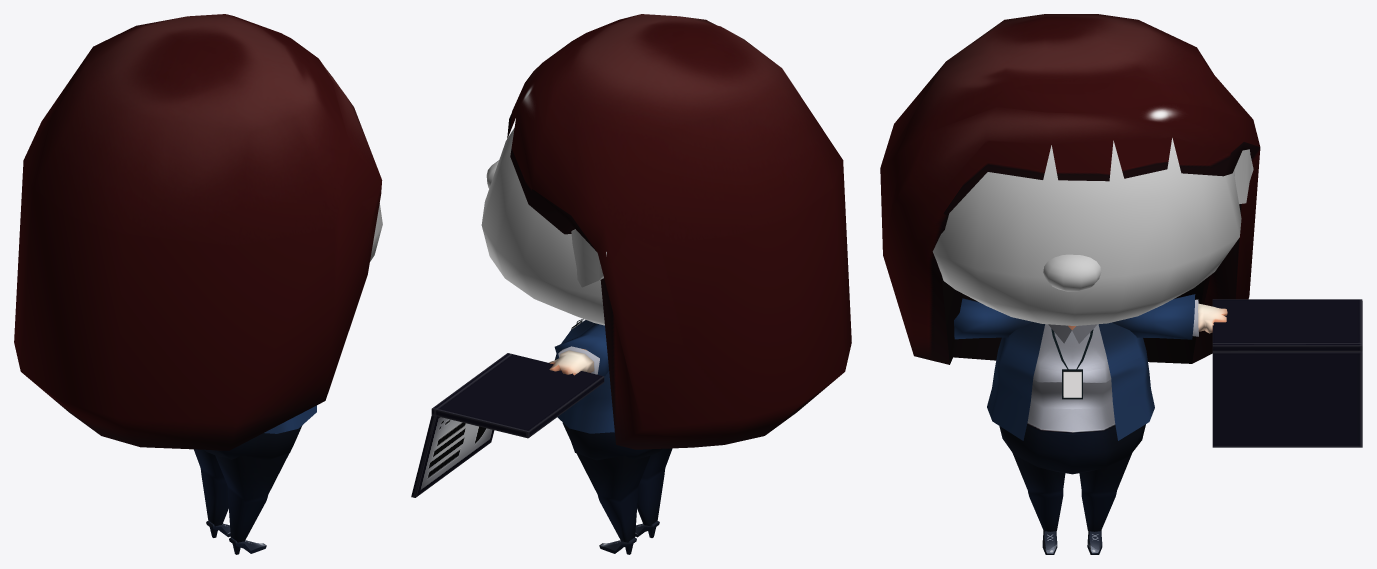
File: Char_Sci_Math_03_Rigged.fbx
3 views of the same model, side by side, from view 1: azimuth 30°, elevation 25°; view 2: azimuth 150°, elevation 25°; view 3: azimuth 270°, elevation 25° (orthographic).
Parts seen in each view (by area): view 1: Hair_Actuarist, R_Leg_Actuarist, L_Leg_Actuarist, Body_Actuarist, Outlet_Vest_Actuarist; view 2: Hair_Actuarist, Laptop_Actuarist, Head_Actuarist, L_Leg_Actuarist, Outlet_Vest_Actuarist, L_Arm_Actuarist, R_Leg_Actuarist, Body_Actuarist, L_Ear_Actuarist; view 3: Hair_Actuarist, Head_Actuarist, Laptop_Actuarist, Body_Actuarist, Outlet_Vest_Actuarist, L_Arm_Actuarist, R_Leg_Actuarist, L_Leg_Actuarist, R_Arm_Actuarist, Nose_Actuarist, Tag_Actuarist, L_Ear_Actuarist.
Part boxes in pixels (bbox=[...]): Hair_Actuarist: bbox=[14, 14, 382, 450]; R_Leg_Actuarist: bbox=[215, 450, 290, 554]; L_Leg_Actuarist: bbox=[194, 449, 230, 537]; Body_Actuarist: bbox=[204, 425, 302, 460]; Outlet_Vest_Actuarist: bbox=[264, 405, 316, 433]; Hair_Actuarist: bbox=[507, 14, 851, 449]; Laptop_Actuarist: bbox=[411, 353, 604, 497]; Head_Actuarist: bbox=[481, 128, 604, 325]; L_Leg_Actuarist: bbox=[575, 450, 650, 554]; Outlet_Vest_Actuarist: bbox=[555, 320, 614, 433]; L_Arm_Actuarist: bbox=[549, 323, 608, 376]; R_Leg_Actuarist: bbox=[635, 448, 672, 537]; Body_Actuarist: bbox=[562, 422, 662, 460]; L_Ear_Actuarist: bbox=[571, 229, 606, 287]; Hair_Actuarist: bbox=[880, 14, 1260, 364]; Head_Actuarist: bbox=[932, 138, 1241, 325]; Laptop_Actuarist: bbox=[1212, 299, 1362, 447]; Body_Actuarist: bbox=[999, 324, 1145, 474]; Outlet_Vest_Actuarist: bbox=[987, 322, 1154, 440]; L_Arm_Actuarist: bbox=[1112, 294, 1227, 339]; R_Leg_Actuarist: bbox=[1012, 452, 1065, 554]; L_Leg_Actuarist: bbox=[1079, 451, 1132, 554]; R_Arm_Actuarist: bbox=[954, 298, 1032, 339]; Nose_Actuarist: bbox=[1043, 254, 1101, 291]; Tag_Actuarist: bbox=[1051, 328, 1093, 399]; L_Ear_Actuarist: bbox=[1233, 149, 1253, 203].
Size of the model in its own units: 4.71 by 6.89 by 5.99.
